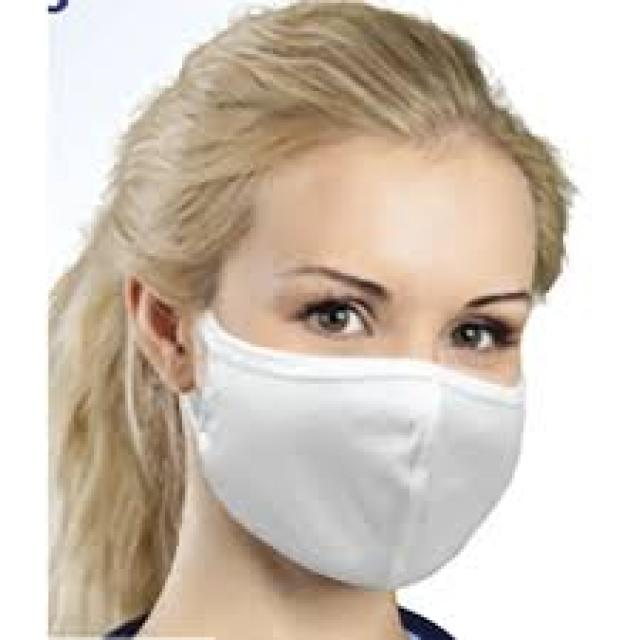Mask: (124, 288, 543, 586)
